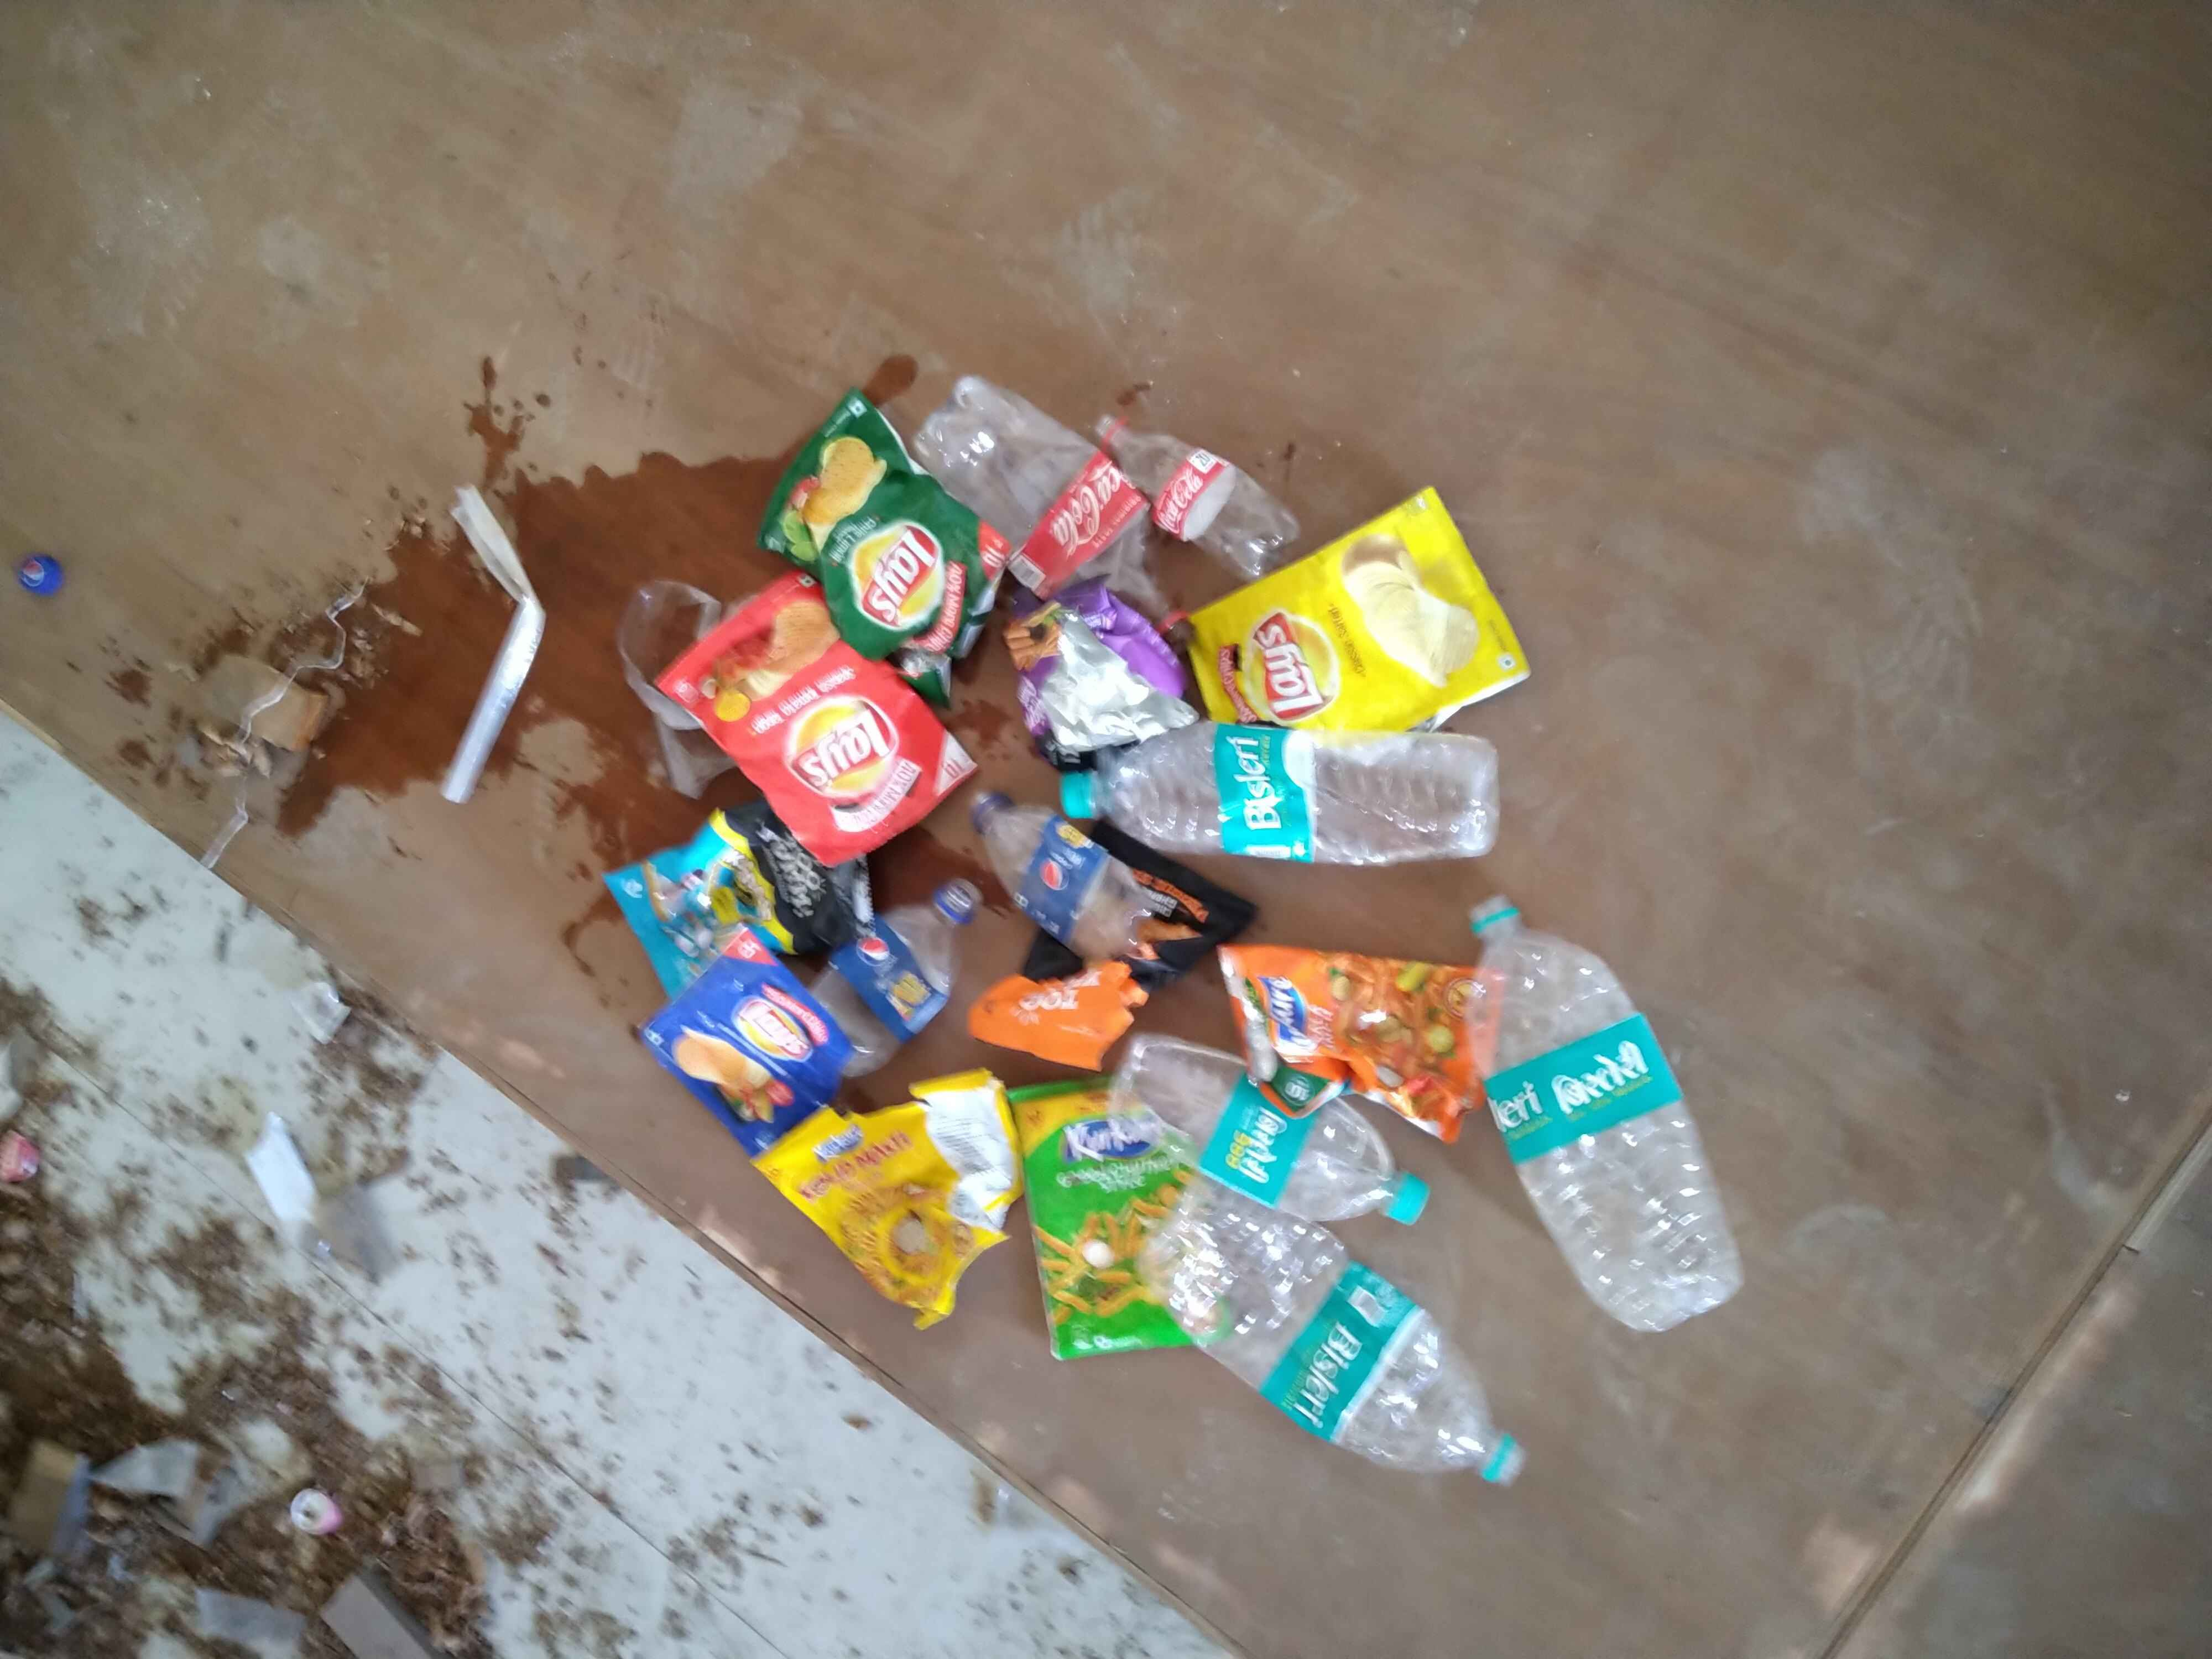Bisleri: (1482, 1035, 1649, 1122), (1221, 721, 1322, 861), (1275, 1319, 1385, 1417), (1221, 1100, 1298, 1185)
Coca-Cola: (1049, 458, 1130, 570), (1153, 469, 1205, 538)
Lays: (1214, 599, 1339, 725), (840, 511, 954, 633), (786, 695, 904, 809), (725, 974, 822, 1065)
kurkure: (1035, 1105, 1167, 1180), (1244, 965, 1315, 1075), (799, 1122, 878, 1164)
pepsi: (855, 925, 935, 1002), (1015, 843, 1090, 917)
tooyumm: (747, 810, 852, 925), (1010, 957, 1123, 1037)
